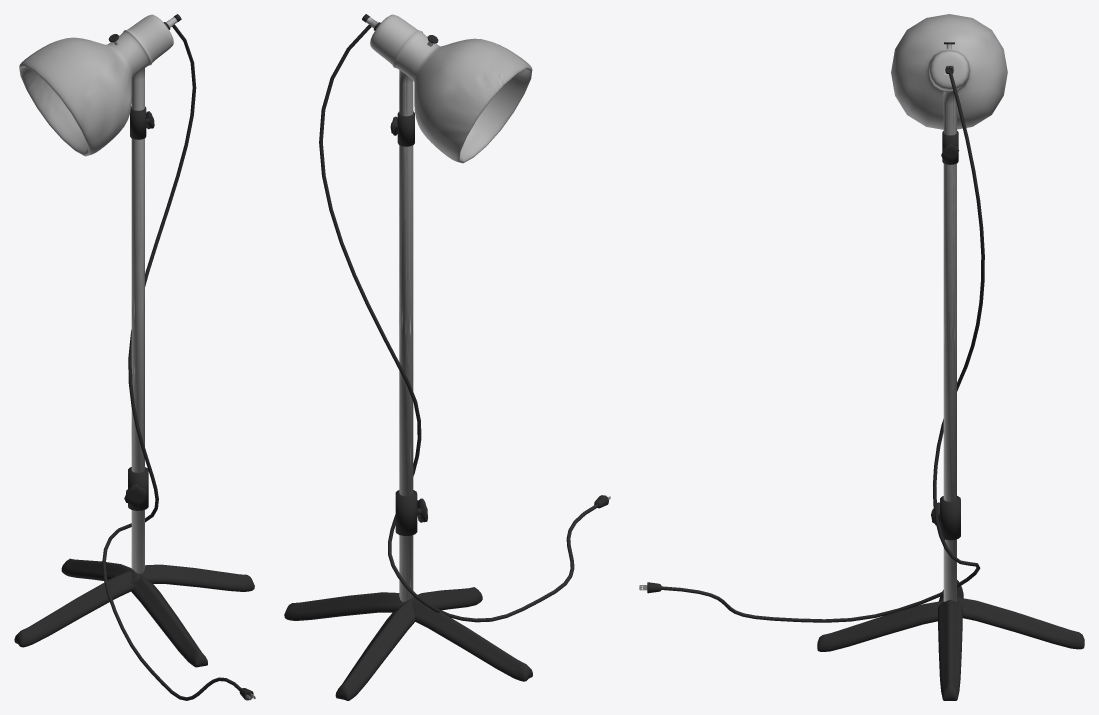
File: LAMPARA.fbx
The picture shows the model from 3 angles, left to right: view 1: azimuth 30°, elevation 25°; view 2: azimuth 150°, elevation 25°; view 3: azimuth 270°, elevation 25°; orthographic projection. The views are drawn at different scales.
Parts seen in each view (by area): view 1: Lampàra; view 2: Lampàra; view 3: Lampàra.
Part boxes in pixels (<box>): Lampàra: <box>14,14,255,700</box>; Lampàra: <box>284,14,610,700</box>; Lampàra: <box>639,14,1084,700</box>.
Size of the model in its own units: 119 by 292 by 194.
